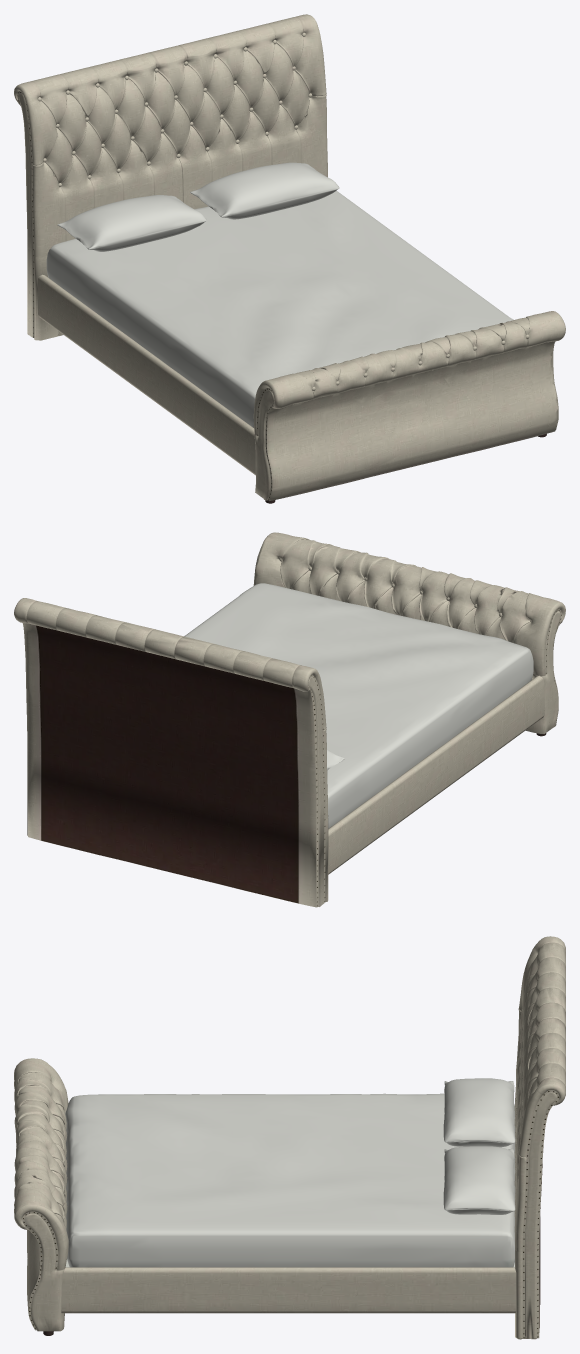
The model's file is B075QDTYGK.glb.
3 views of the same model, one above another, from view 1: azimuth 30°, elevation 25°; view 2: azimuth 150°, elevation 25°; view 3: azimuth 270°, elevation 25° (orthographic). The views are drawn at different scales.
Parts seen in each view (by area): view 1: RootNode; view 2: RootNode; view 3: RootNode.
Part boxes in pixels (left/top/right/bottom): RootNode: left=14, top=14, right=565, bottom=503; RootNode: left=14, top=532, right=565, bottom=907; RootNode: left=14, top=936, right=565, bottom=1339.
Size of the model in its own units: 1.61 by 1.27 by 2.49.
Materials: 1 (1 with a texture image).
